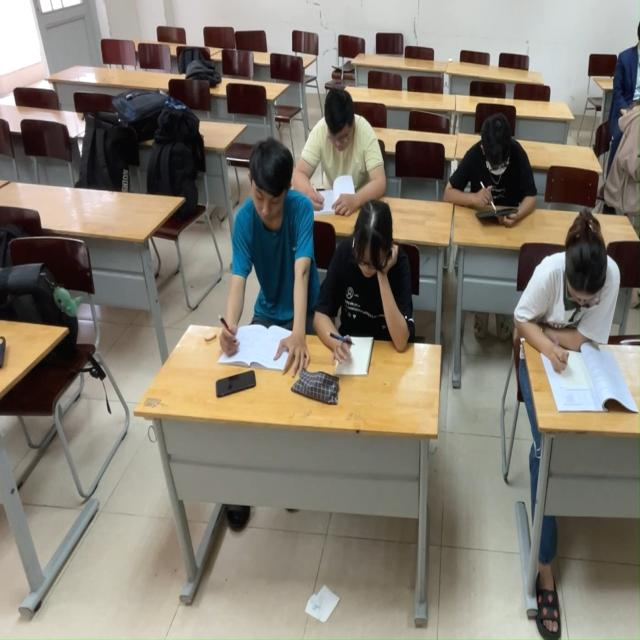read: (515, 207, 640, 426), (213, 135, 309, 390), (322, 207, 432, 385), (443, 94, 535, 233), (296, 77, 383, 223)
